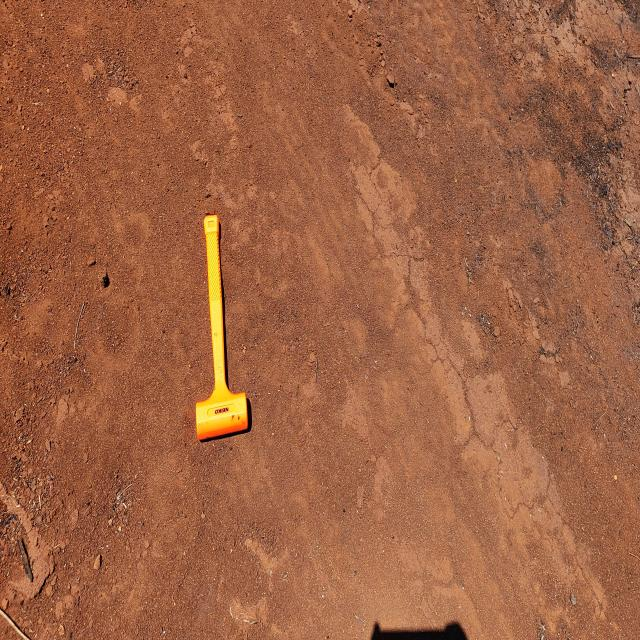Orange_hammer: (195, 213, 249, 442)
